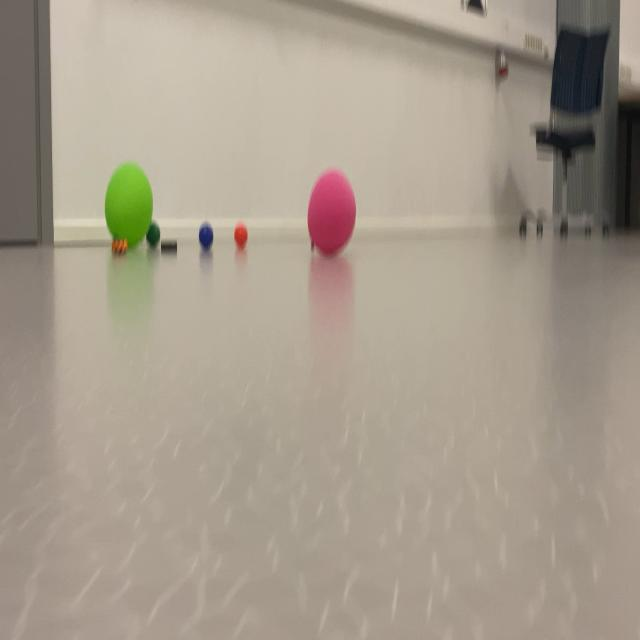7: (230, 220, 252, 272)
green ball: (195, 215, 220, 266)
red ball: (144, 219, 166, 251)
